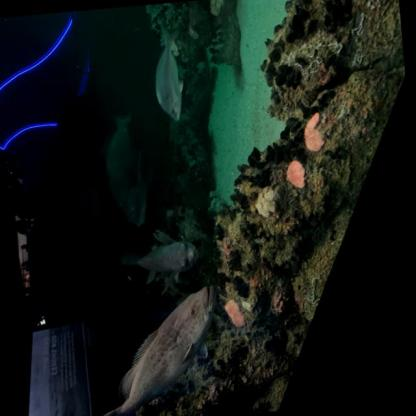fish: (78, 283, 230, 415), (94, 104, 160, 232), (116, 224, 202, 295), (148, 15, 189, 125)
